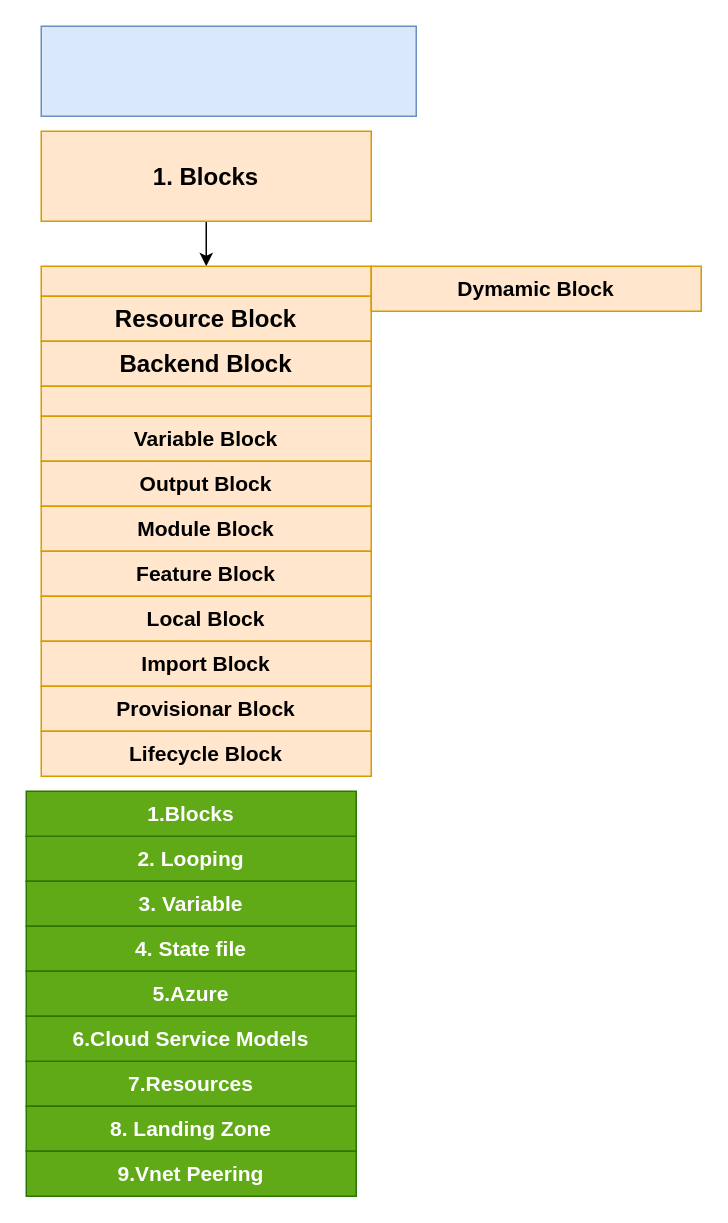
The diagram is 728 pixels wide and 1223 high, and some of its shapes have lost their labels. The centre of each missing label's shape, as x and y in pixels:
Data Block: (x=205, y=400)
Terraform: (x=228, y=70)
Terraform Block: (x=205, y=280)
